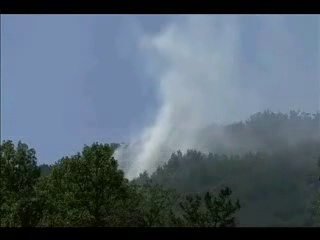smoke: (139, 14, 318, 174), (108, 113, 192, 188)
